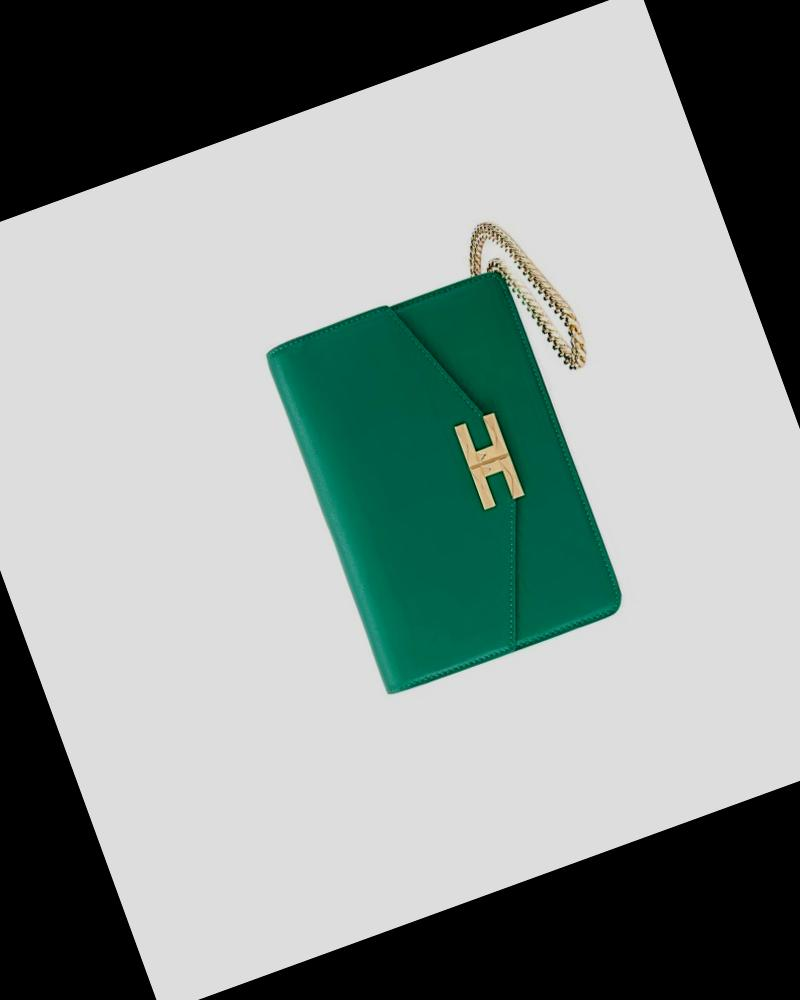ELISABETTA-FRANCHI: (422, 386, 556, 530)
